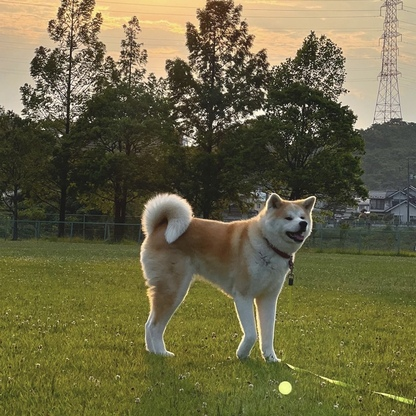akita: (134, 186, 324, 369)
